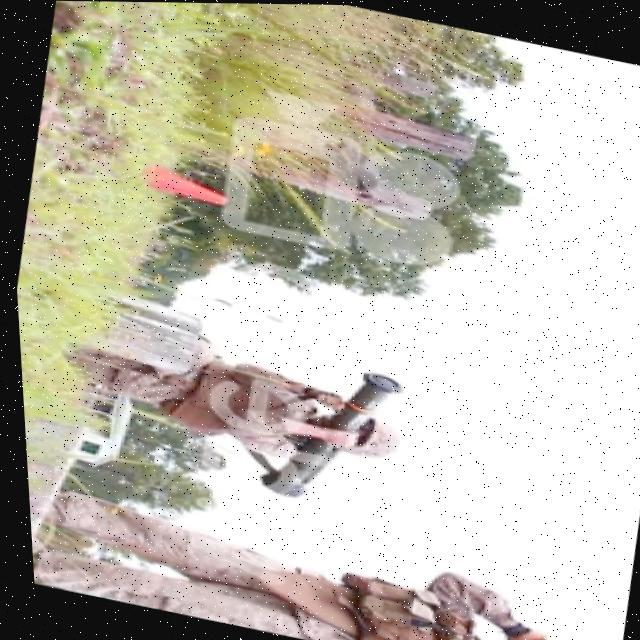rocket: (238, 354, 402, 514)
